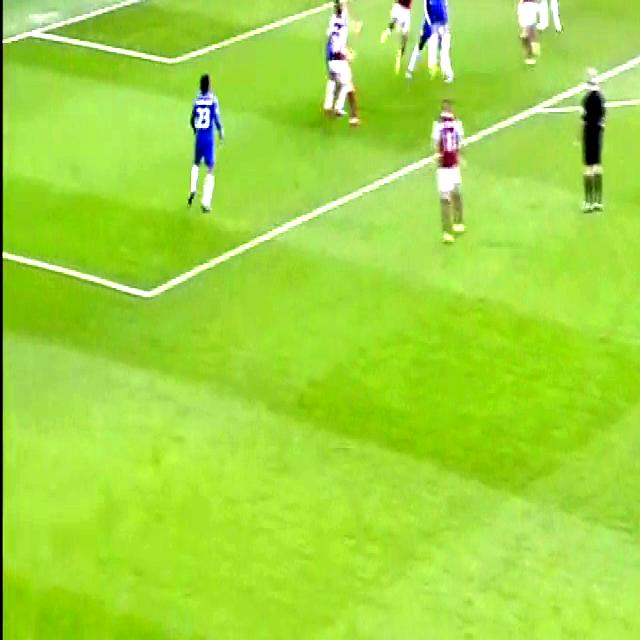goalkeeper: (304, 0, 345, 7)
referee: (568, 58, 612, 226)
soccer-player: (179, 60, 232, 226), (422, 90, 473, 251), (312, 0, 359, 132), (414, 0, 462, 82), (385, 0, 425, 75), (513, 0, 548, 69), (531, 0, 568, 37)
